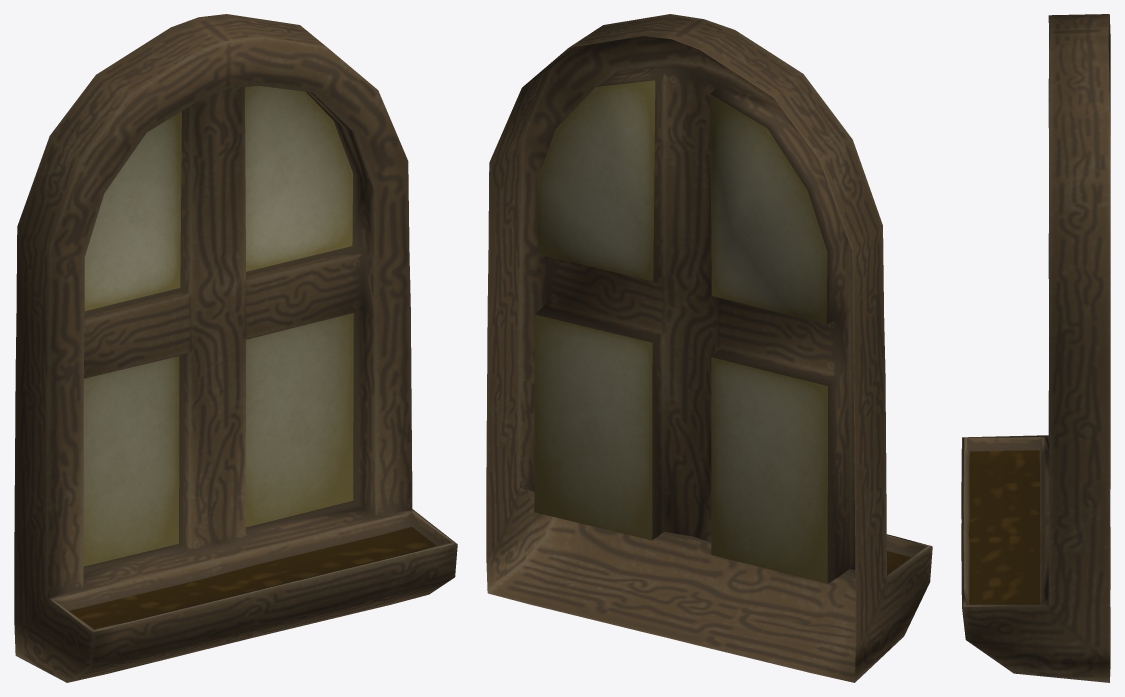
File: Windows_LP.fbx
The picture shows the model from 3 angles, left to right: view 1: azimuth 30°, elevation 25°; view 2: azimuth 150°, elevation 25°; view 3: azimuth 270°, elevation 25°; orthographic projection. The views are drawn at different scales.
Parts seen in each view (by area): view 1: Windows_LP; view 2: Windows_LP; view 3: Windows_LP.
Part boxes in pixels (x1,y1,x2,y2): Windows_LP: (14, 14, 457, 682); Windows_LP: (486, 14, 932, 682); Windows_LP: (961, 14, 1110, 682).
Size of the model in its own units: 76.93 by 119 by 28.4.
Materials: 1 (1 with a texture image).
